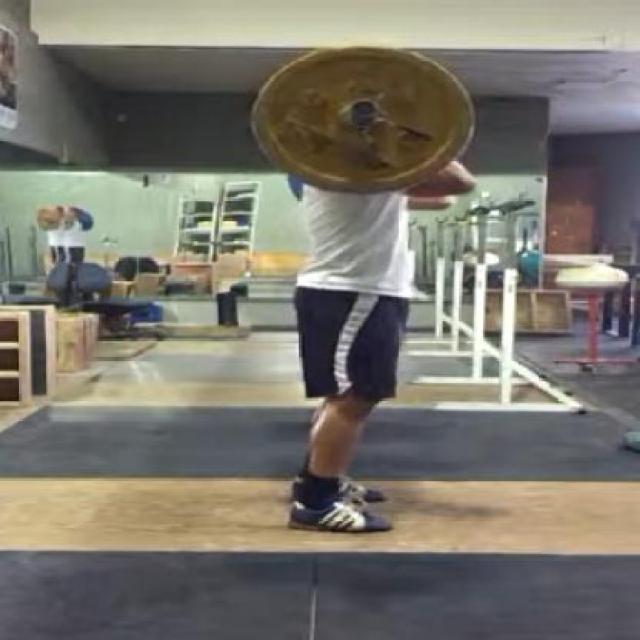Barbell: (339, 98, 390, 122)
